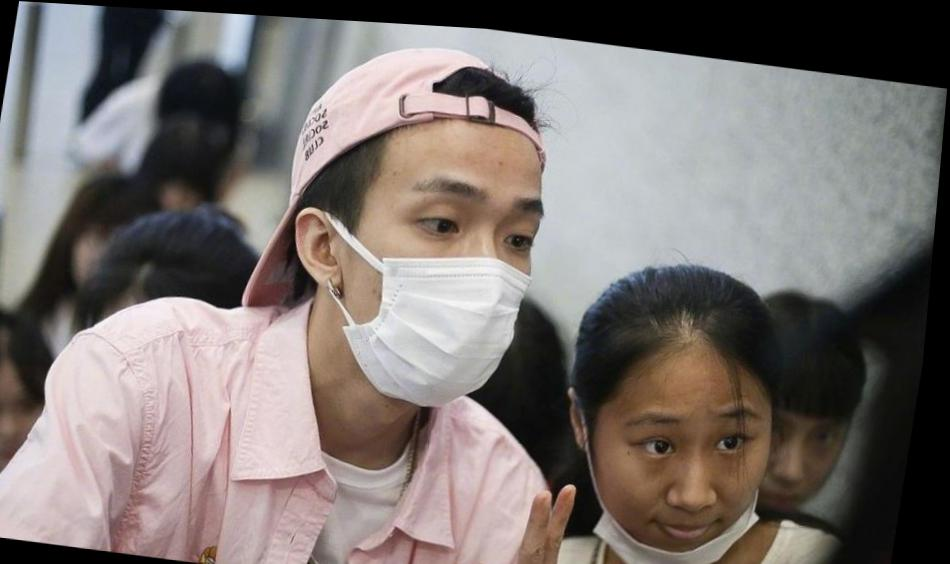NONE: (743, 380, 852, 515), (1, 384, 57, 480)
OK: (325, 138, 564, 402)
WRONG: (577, 361, 791, 564)
